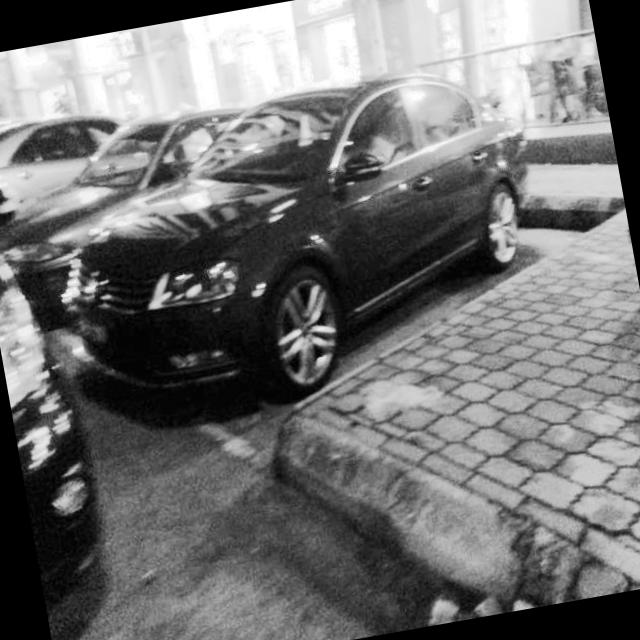Car: (46, 55, 572, 476), (0, 71, 275, 355), (0, 197, 126, 640), (0, 57, 130, 265)
